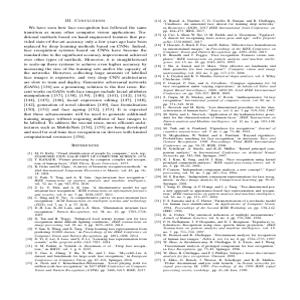text: (20, 18, 151, 276), (153, 14, 282, 275)
